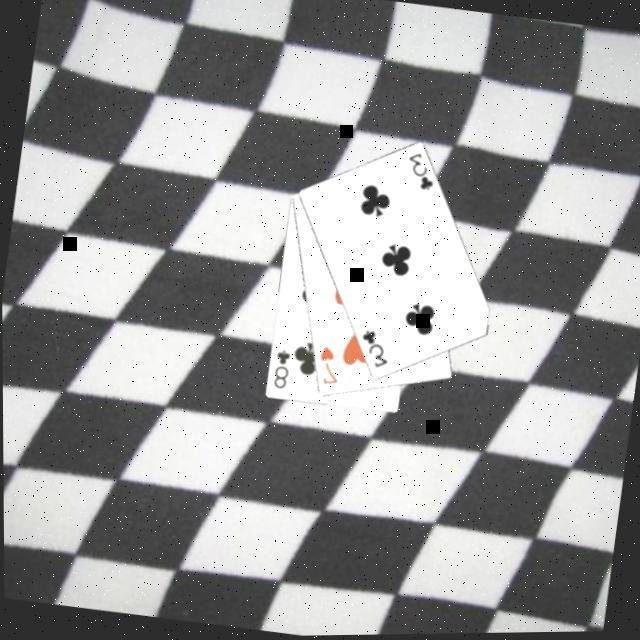3C: (352, 330, 392, 376), (399, 152, 439, 198)
7H: (311, 344, 343, 392)
8C: (266, 348, 292, 394)
